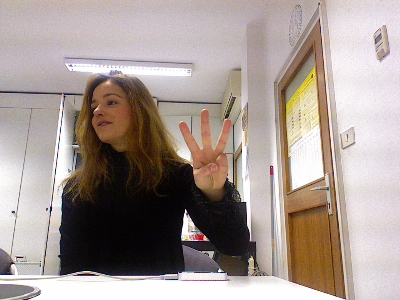三分: (177, 108, 231, 193)
